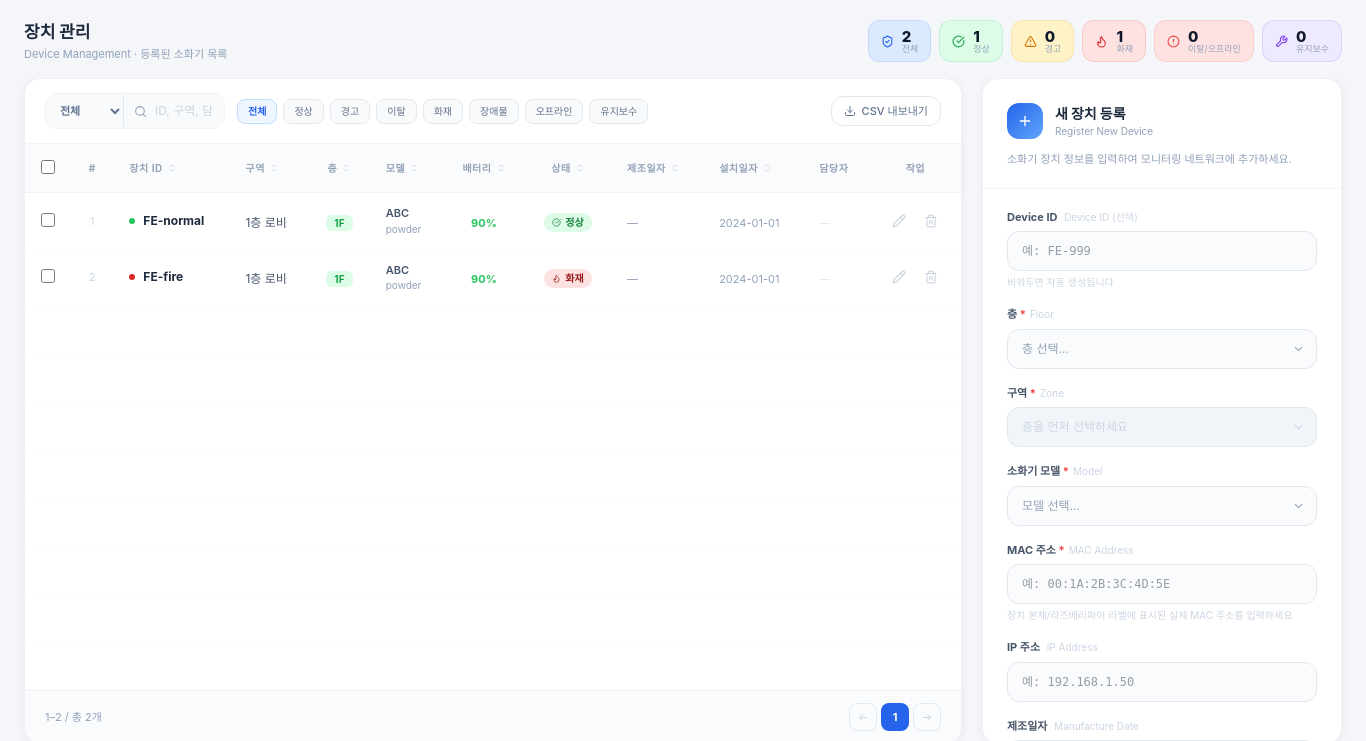
Scenario: DeviceManagement › filters devices by status
Check: the text "FE-normal" is shown, box [143,212,204,230]
Click the button "화재".
click(443, 111)  # box [423,98,463,124]
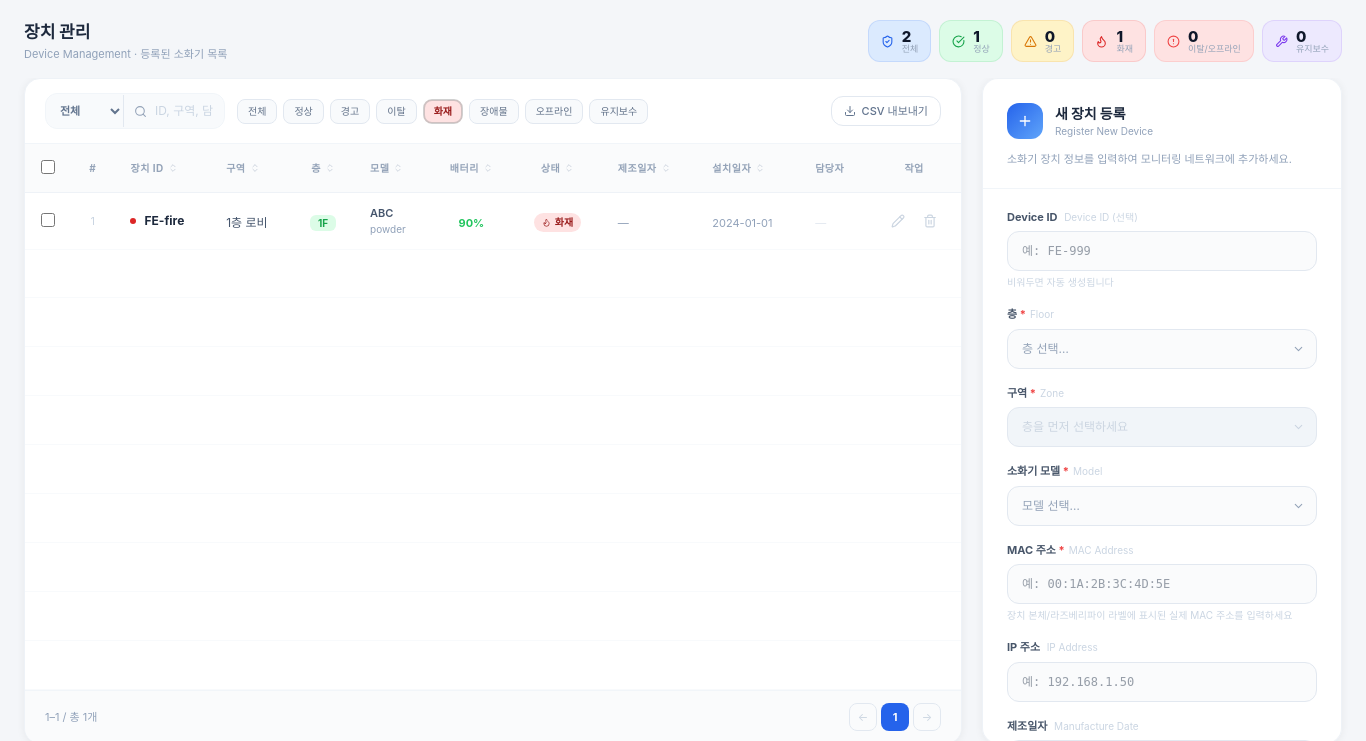
Check: the text "FE-fire" is shown, box [144,212,184,230]
Check: the text "FE-normal" is gone
